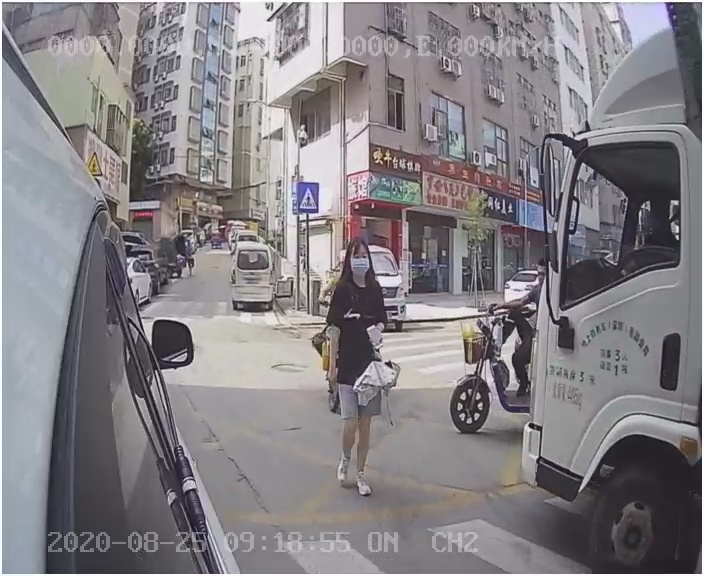person: (313, 238, 407, 493)
